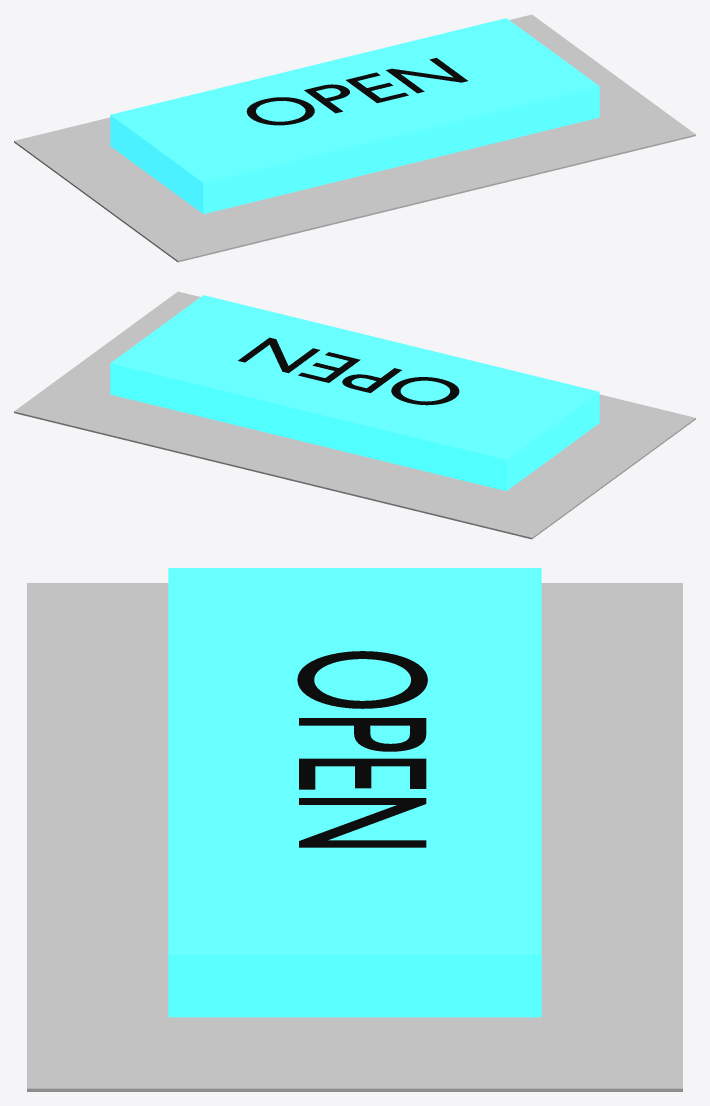
File: openbutton3.glb
3 views of the same model, one above another, from view 1: azimuth 30°, elevation 25°; view 2: azimuth 150°, elevation 25°; view 3: azimuth 270°, elevation 25° (orthographic). The views are drawn at different scales.
Visible parts, largest first — view 1: Cube, Cube.001, Text; view 2: Cube, Cube.001, Text; view 3: Cube.001, Cube, Text.
Part boxes in pixels (box(x1,y1,x2,y2)): Cube: box(110, 18, 599, 213); Cube.001: box(14, 14, 695, 262); Text: box(246, 58, 467, 125); Cube: box(110, 295, 599, 490); Cube.001: box(14, 291, 695, 539); Text: box(238, 337, 459, 405); Cube.001: box(27, 583, 682, 1091); Cube: box(168, 568, 541, 1017); Text: box(297, 651, 427, 847).
Size of the model in its own units: 6.41 by 0.5236 by 3.52.
